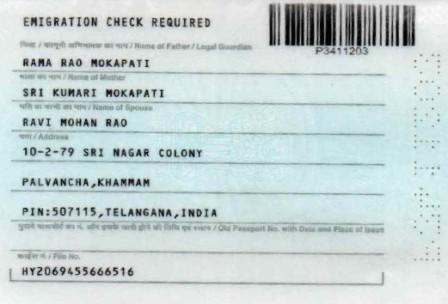File_no: (16, 260, 138, 279)
address: (19, 141, 245, 222)
father_name: (20, 54, 150, 70)
mother_name: (21, 82, 171, 101)
passport_no: (312, 44, 372, 59)
spouse_name: (17, 113, 130, 128)
